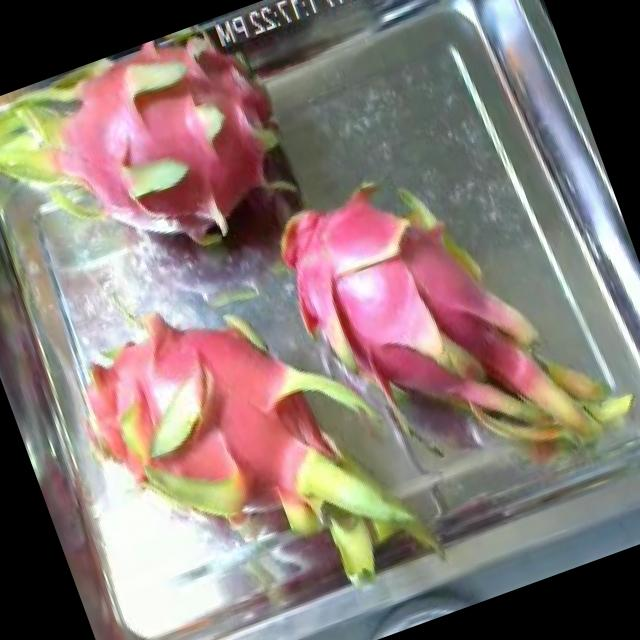Fruit: (111, 145, 242, 282)
